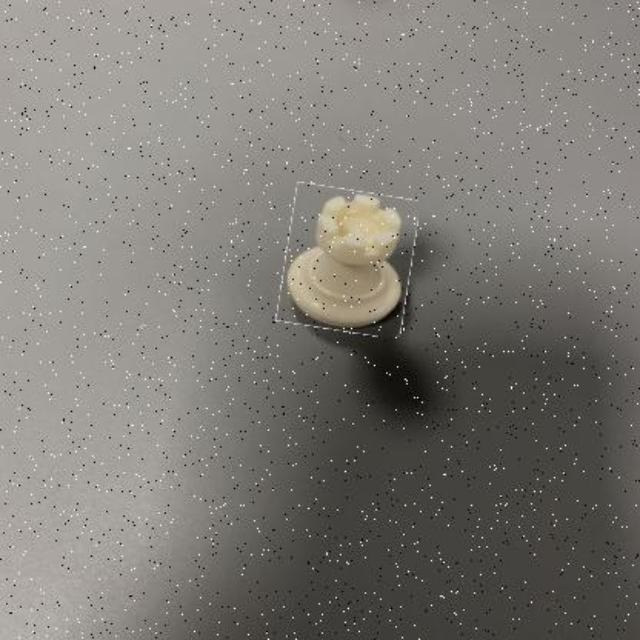white-rook: (281, 186, 415, 335)
